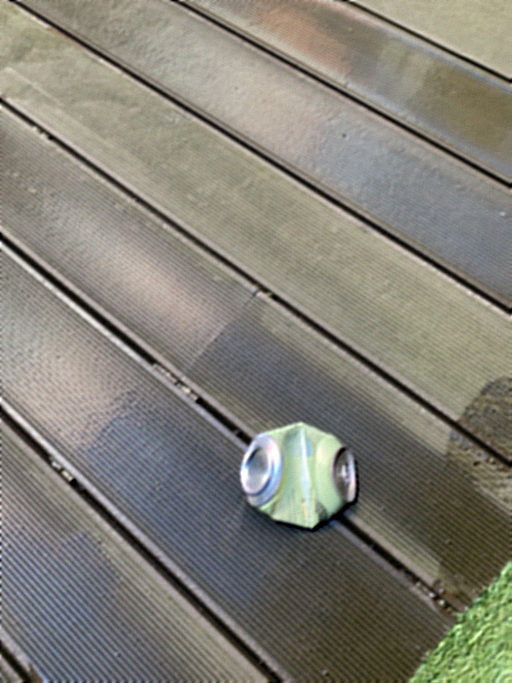can_s: (238, 417, 361, 532)
